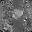people: (12, 8, 24, 20)
